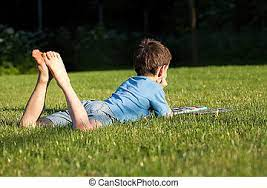child: (18, 25, 228, 133)
